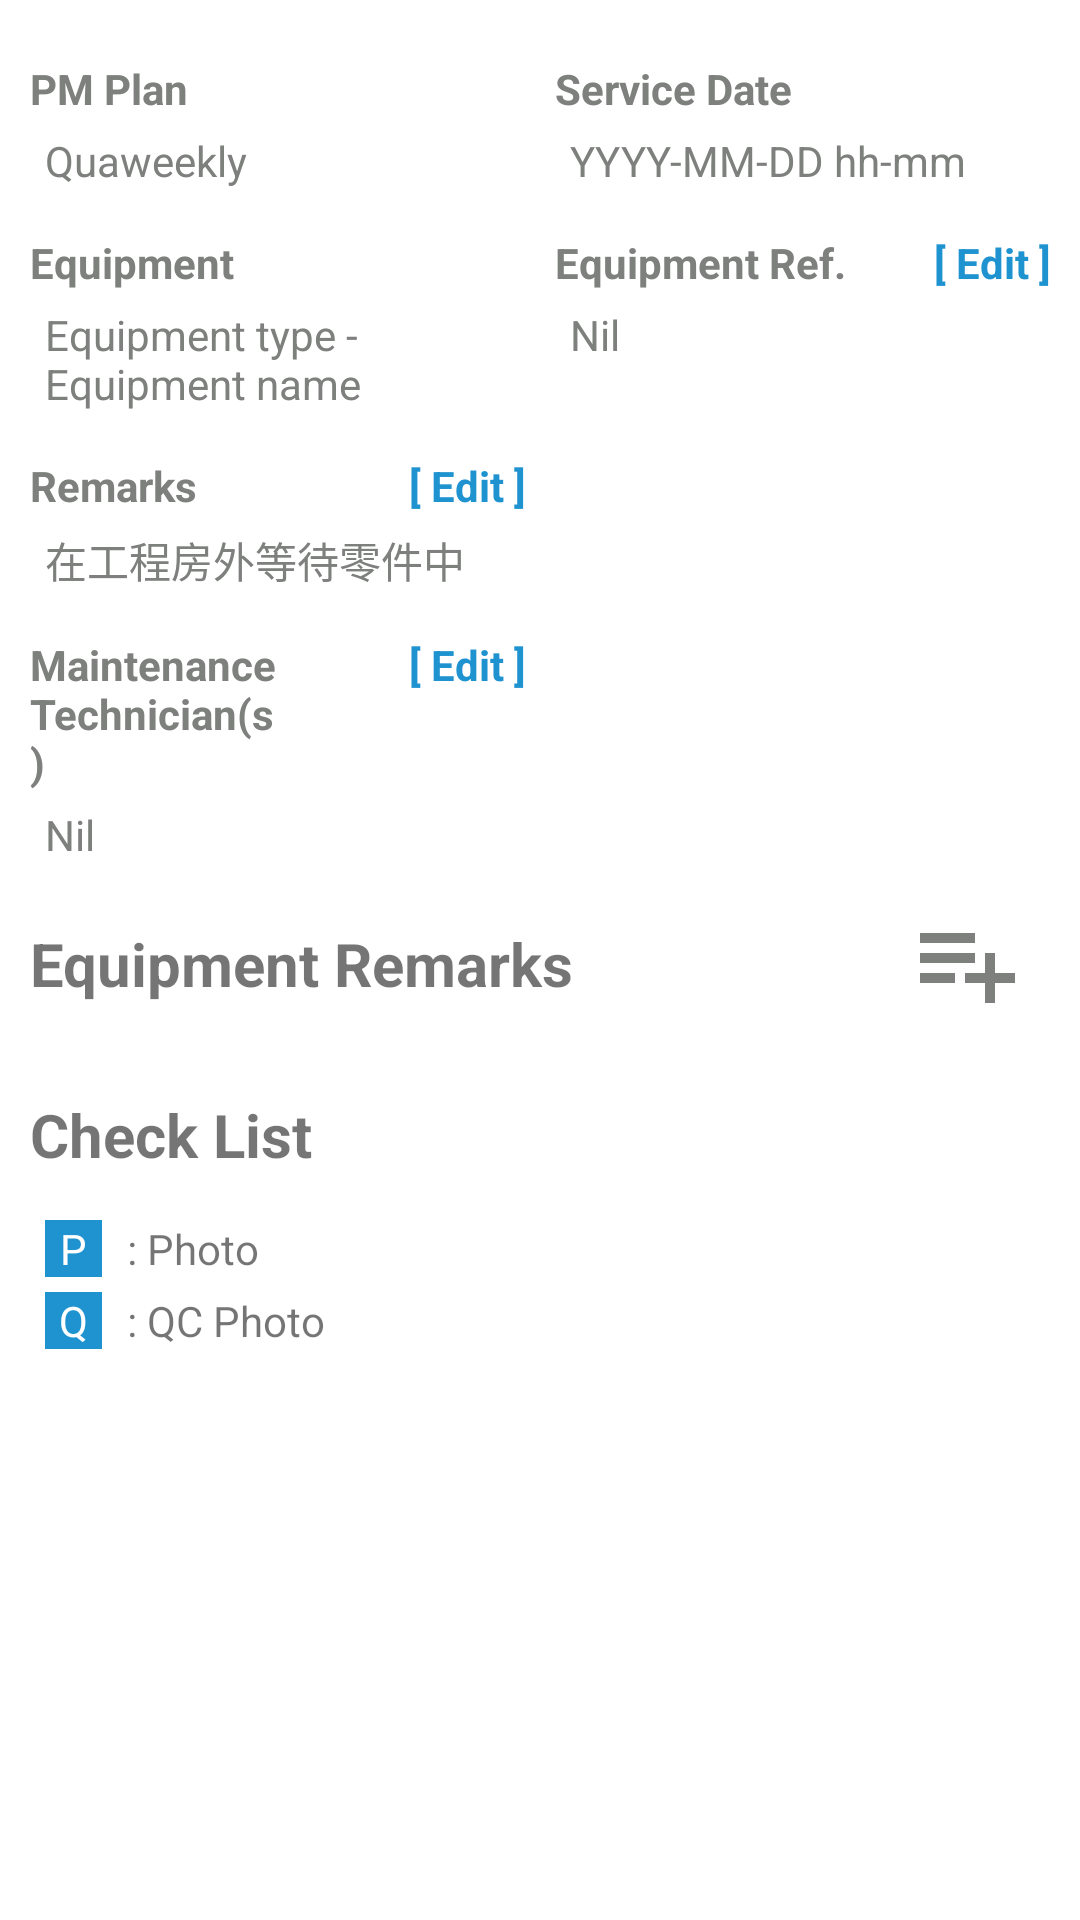

Named icons in this screenshot (1080 x 1920) and their centers, point (x, y):
add: point (967, 968)
